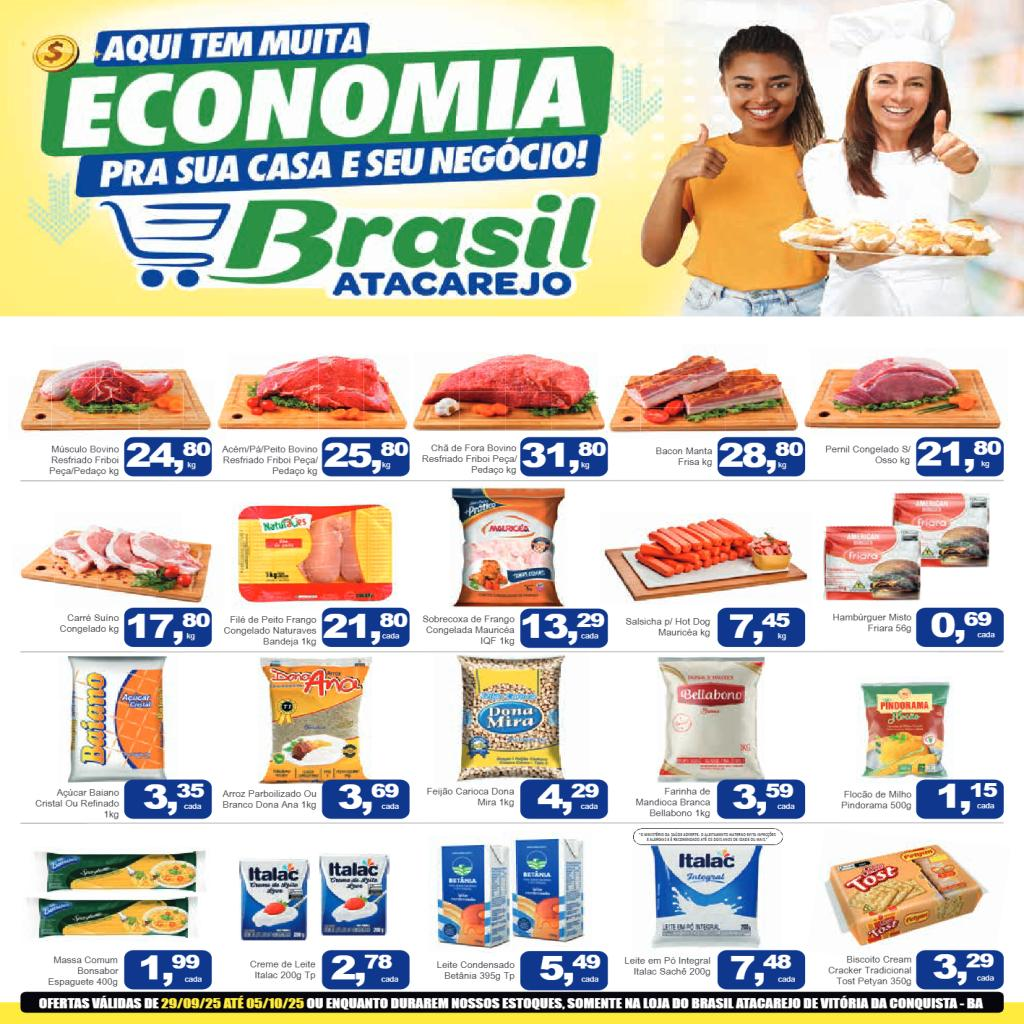price: (124, 611, 212, 646), (323, 440, 410, 475), (323, 612, 409, 646), (520, 441, 605, 475), (126, 441, 210, 475), (521, 612, 605, 646), (918, 440, 1002, 474), (719, 441, 805, 474), (930, 951, 999, 988), (331, 953, 402, 988), (930, 610, 999, 646), (727, 953, 799, 987), (138, 952, 202, 988), (336, 782, 402, 816), (726, 612, 792, 646), (731, 782, 798, 815), (142, 782, 207, 816), (536, 782, 601, 816), (538, 953, 602, 987), (936, 782, 998, 814)
product_text: (219, 444, 320, 478), (420, 442, 517, 476), (223, 614, 318, 648), (419, 614, 516, 647), (33, 787, 121, 821), (826, 954, 913, 987), (634, 786, 712, 819), (48, 443, 121, 478), (44, 954, 119, 988), (220, 788, 318, 812), (823, 442, 912, 468), (423, 786, 516, 810), (621, 616, 712, 640), (622, 955, 713, 978), (831, 611, 913, 635), (432, 960, 516, 982), (836, 788, 912, 812), (54, 612, 120, 637), (653, 444, 714, 470), (246, 959, 317, 981)
